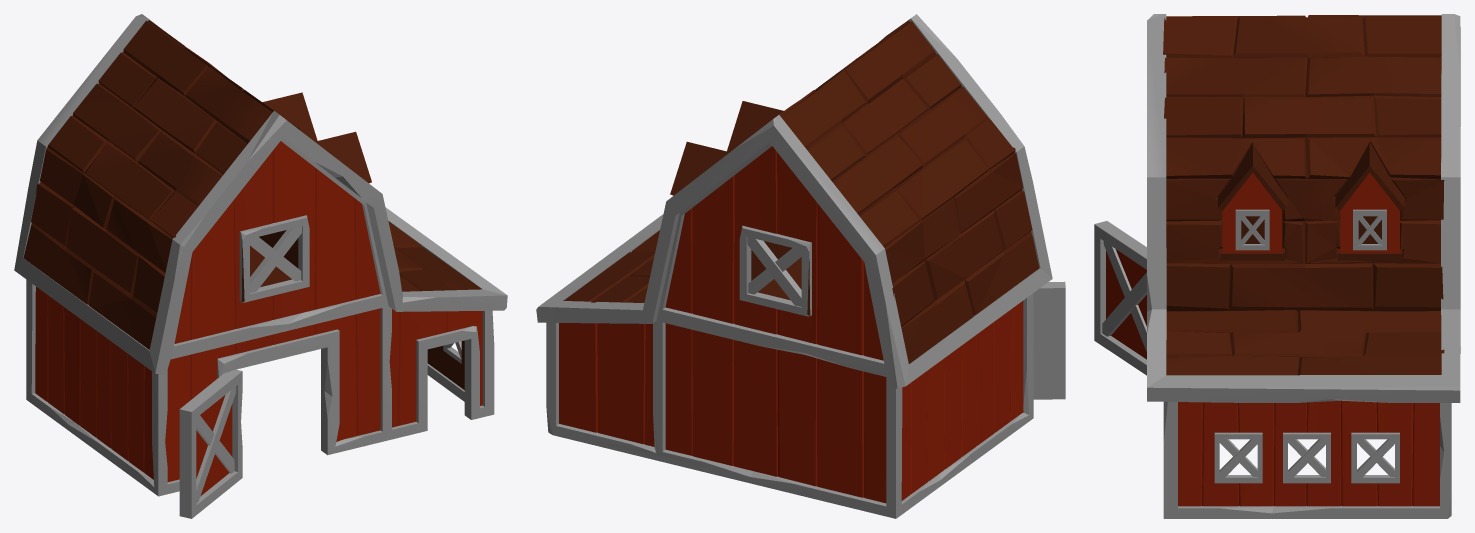
Rendered from Stable_2_1.fbx.
The picture shows the model from 3 angles, left to right: view 1: azimuth 30°, elevation 25°; view 2: azimuth 150°, elevation 25°; view 3: azimuth 270°, elevation 25°; orthographic projection. The views are drawn at different scales.
Parts seen in each view (by area): view 1: Stable_2_1; view 2: Stable_2_1; view 3: Stable_2_1.
Boxes of the visible parts, x1=… form: Stable_2_1: x1=14, y1=14, x2=507, y2=518; Stable_2_1: x1=536, y1=14, x2=1065, y2=518; Stable_2_1: x1=1094, y1=14, x2=1460, y2=518.
Bounding box in the file's own units: 286 × 276 × 236.
